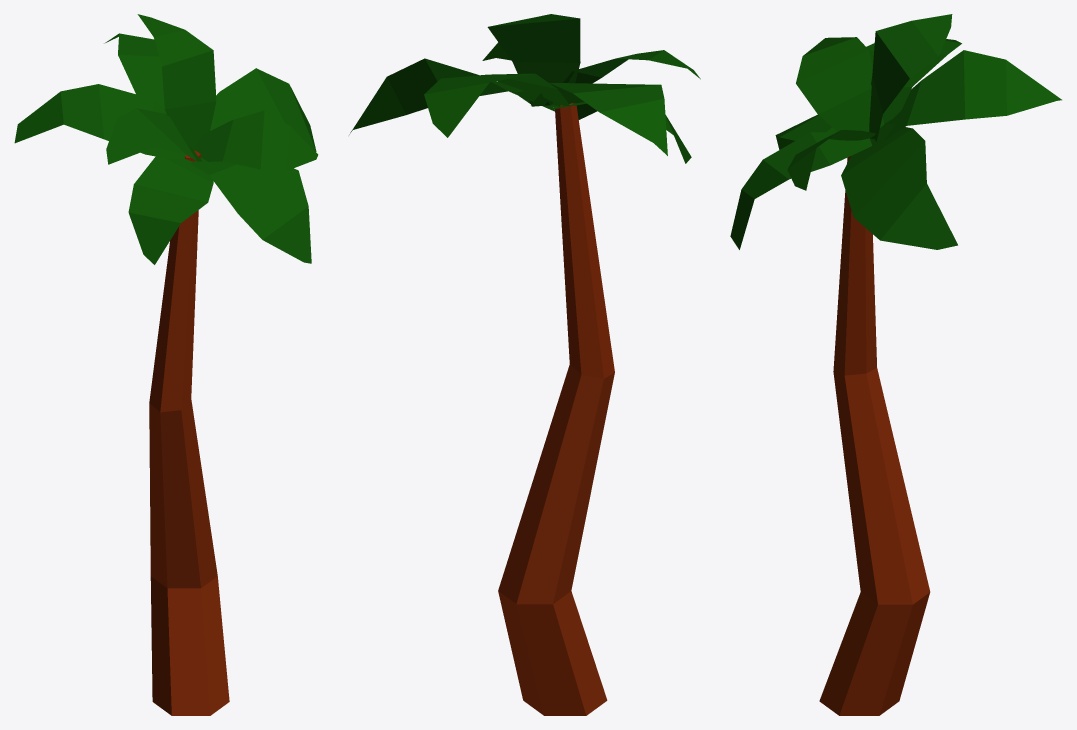
Rendered from tree_palm2.glb.
The picture shows the model from 3 angles, left to right: view 1: azimuth 30°, elevation 25°; view 2: azimuth 150°, elevation 25°; view 3: azimuth 270°, elevation 25°; orthographic projection. The views are drawn at different scales.
Parts seen in each view (by area): view 1: Cylinder.023, Cylinder.027, Cylinder.034, Cylinder.028, Cylinder.032, Cylinder.029, Cylinder.031, Cylinder.033, Cylinder.030; view 2: Cylinder.023, Cylinder.034, Cylinder.029, Cylinder.031, Cylinder.030, Cylinder.033; view 3: Cylinder.023, Cylinder.031, Cylinder.030, Cylinder.033, Cylinder.034, Cylinder.027, Cylinder.032, Cylinder.029, Cylinder.028.
Boxes of the visible parts, x1,y1,x2,y2 form: Cylinder.023: (149, 150, 229, 715); Cylinder.027: (191, 157, 311, 263); Cylinder.034: (137, 14, 216, 149); Cylinder.028: (128, 156, 213, 264); Cylinder.032: (194, 110, 318, 170); Cylinder.029: (14, 84, 185, 159); Cylinder.031: (210, 68, 316, 151); Cylinder.033: (106, 108, 202, 164); Cylinder.030: (104, 33, 215, 128); Cylinder.023: (498, 103, 614, 715); Cylinder.034: (487, 14, 580, 106); Cylinder.029: (531, 82, 667, 155); Cylinder.031: (349, 58, 554, 134); Cylinder.030: (424, 73, 569, 137); Cylinder.033: (545, 50, 700, 105); Cylinder.023: (819, 156, 930, 715); Cylinder.031: (841, 123, 957, 249); Cylinder.030: (879, 50, 1061, 140); Cylinder.033: (796, 37, 884, 131); Cylinder.034: (869, 14, 952, 141); Cylinder.027: (730, 132, 871, 249); Cylinder.032: (787, 130, 878, 190); Cylinder.029: (866, 39, 961, 123); Cylinder.028: (775, 114, 837, 149).
Bounding box in the file's own units: 0.9101 × 1.96 × 0.8635.
